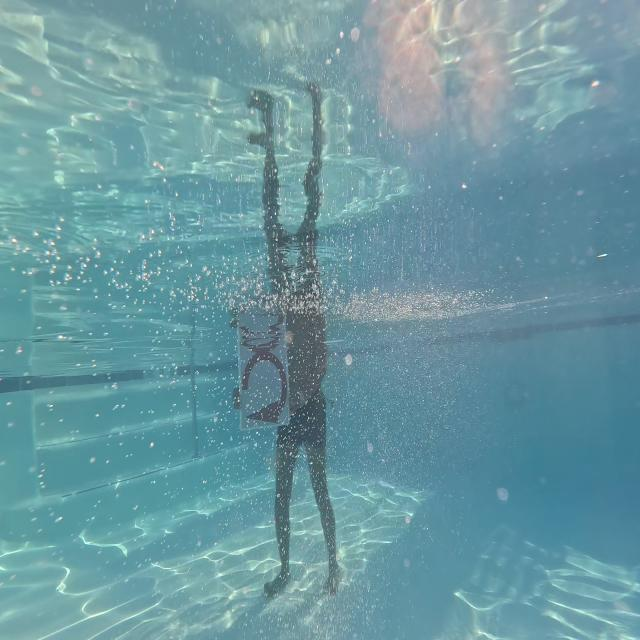red_side: (238, 353, 293, 435)
